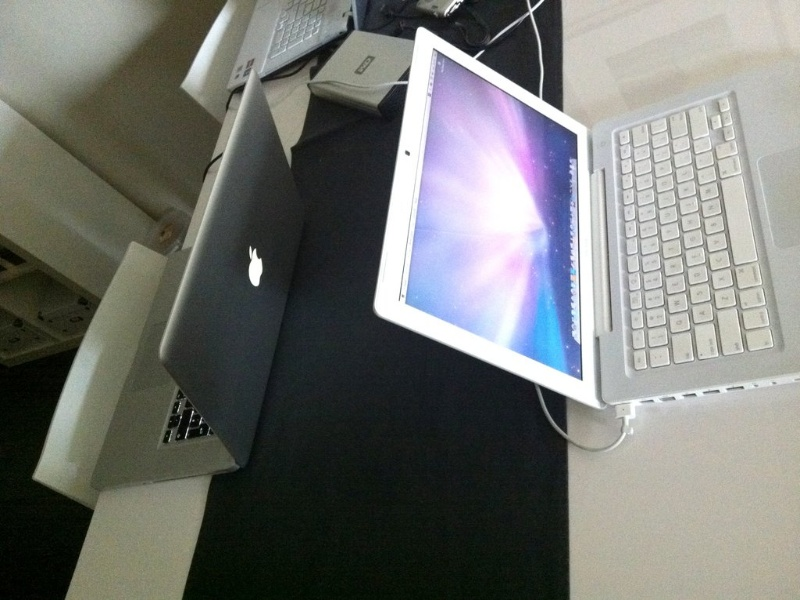laptop: (371, 24, 799, 405), (69, 68, 301, 487), (217, 2, 373, 68)
